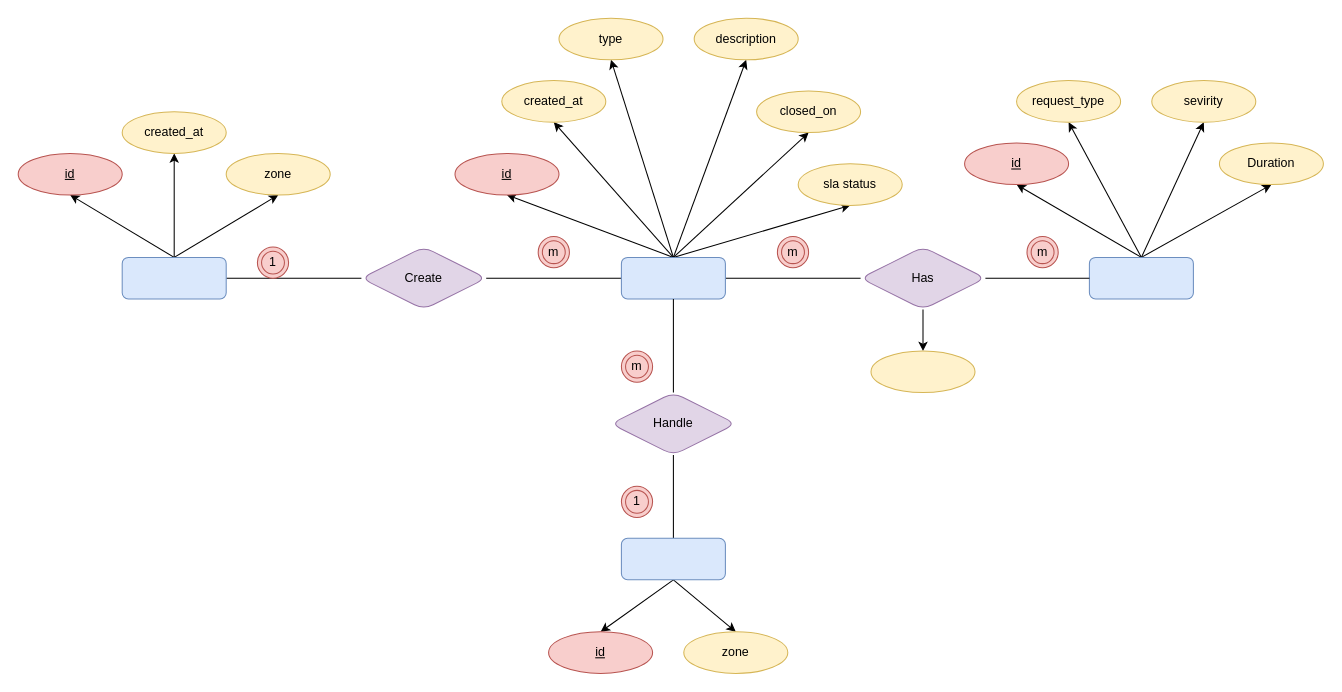
Some shapes in this 1342 by 692 pixel diagram are drawn without their labels. Here are the shapes that lost their labels. From the top down, the box of each, then its label:
(121, 256, 226, 299): Client
(620, 256, 725, 299): Request
(1088, 256, 1193, 299): SLA Criteria
(870, 350, 975, 393): expired on
(620, 537, 725, 580): User
